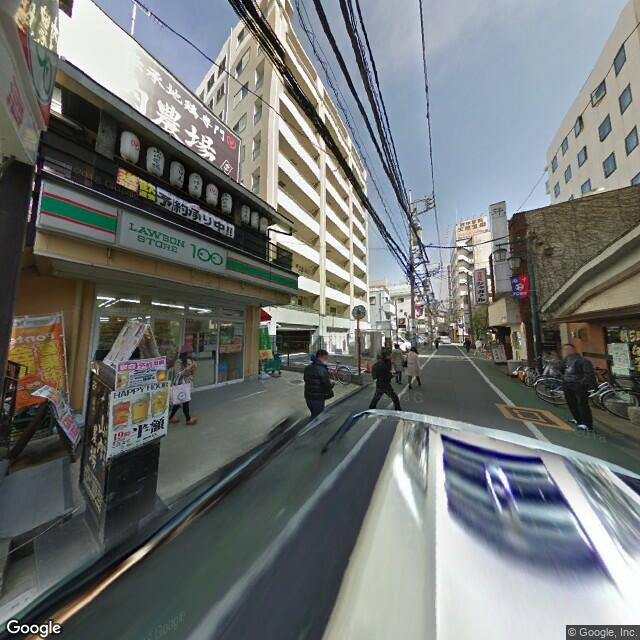lawson: (40, 182, 301, 295)
